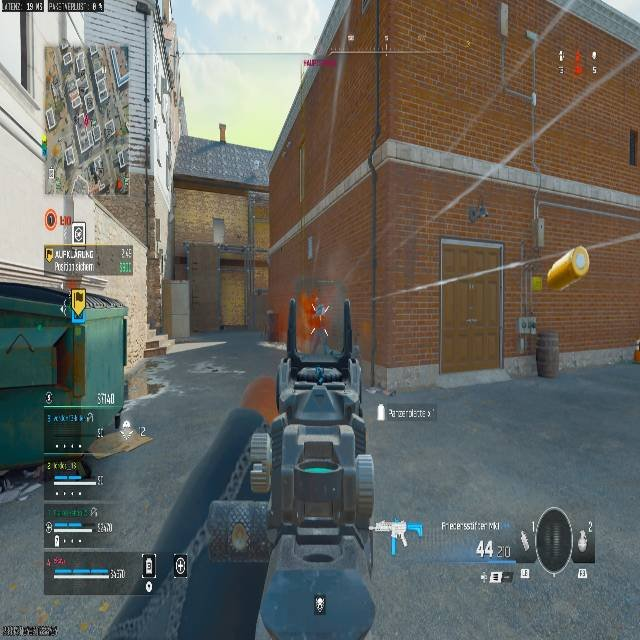player: (307, 307, 331, 354)
